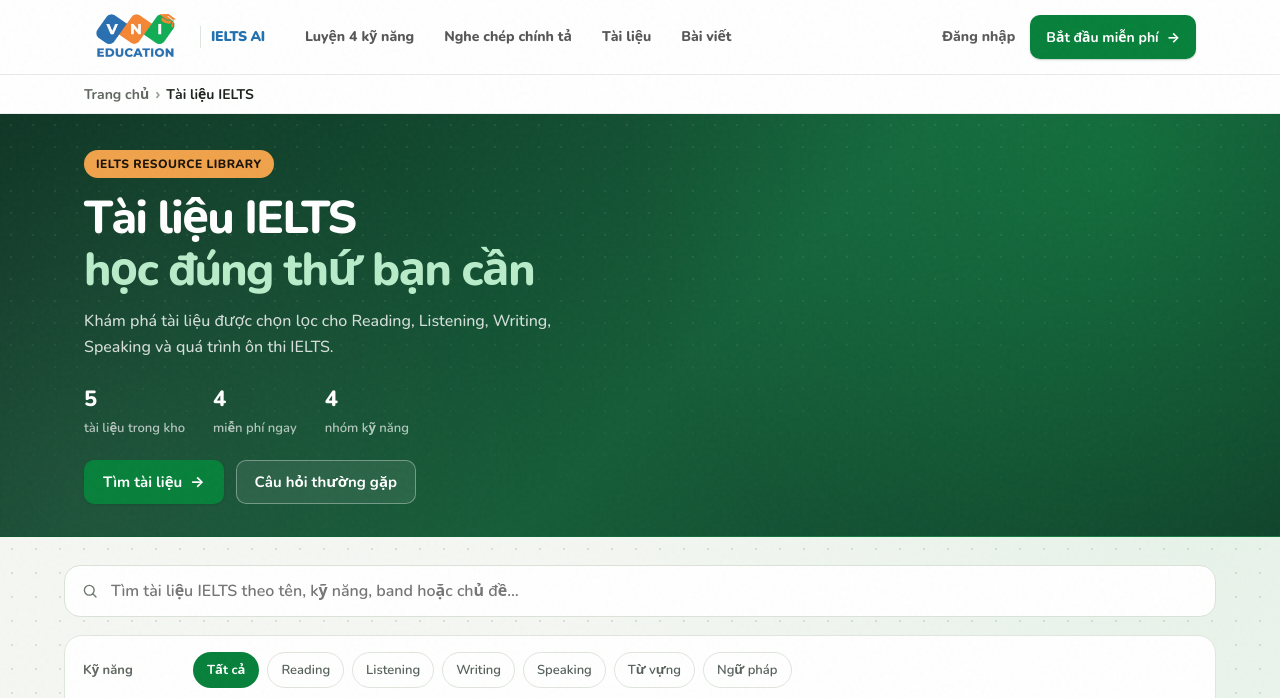
narrows the library by skill, and says how many are left
This screenshot has width=1280, height=698.
Expected: the heading "Tài liệu IELTS" is shown, [84,192,581,295]
Click the radio button labelled "Writing" at (479,670), box [442,652,515,688]
(page scrolled)
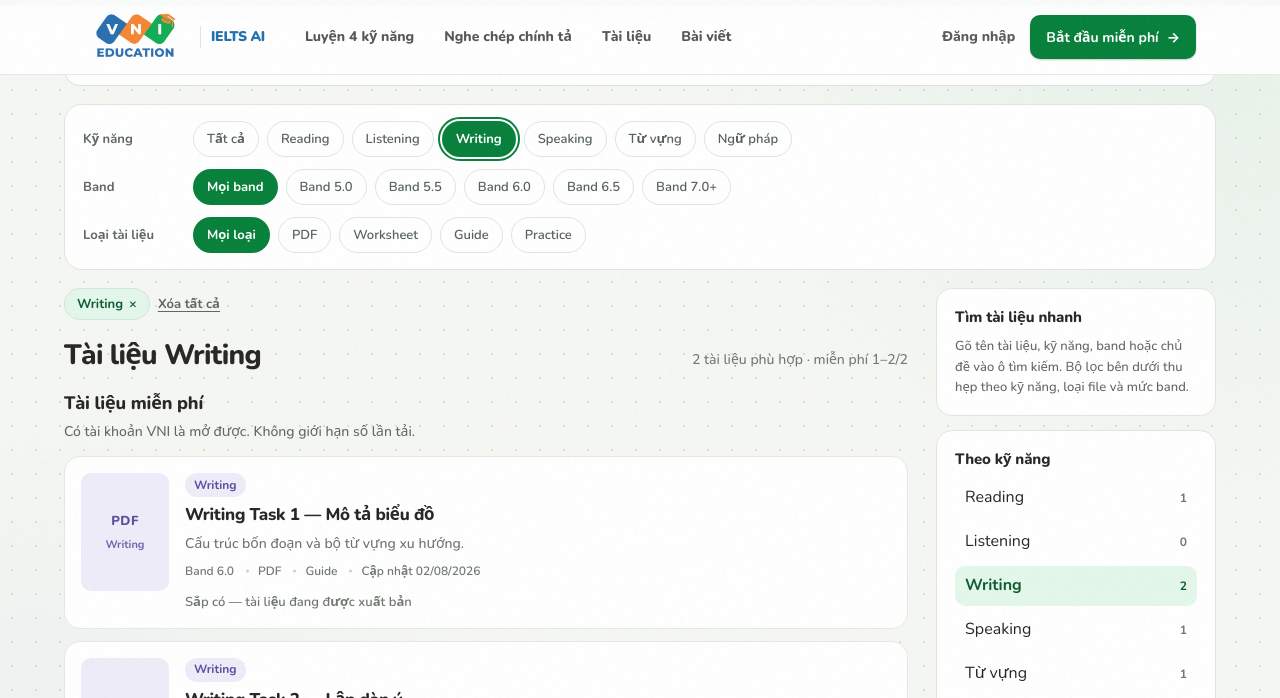
Expected: the message shows "2", [692,350,908,370]
